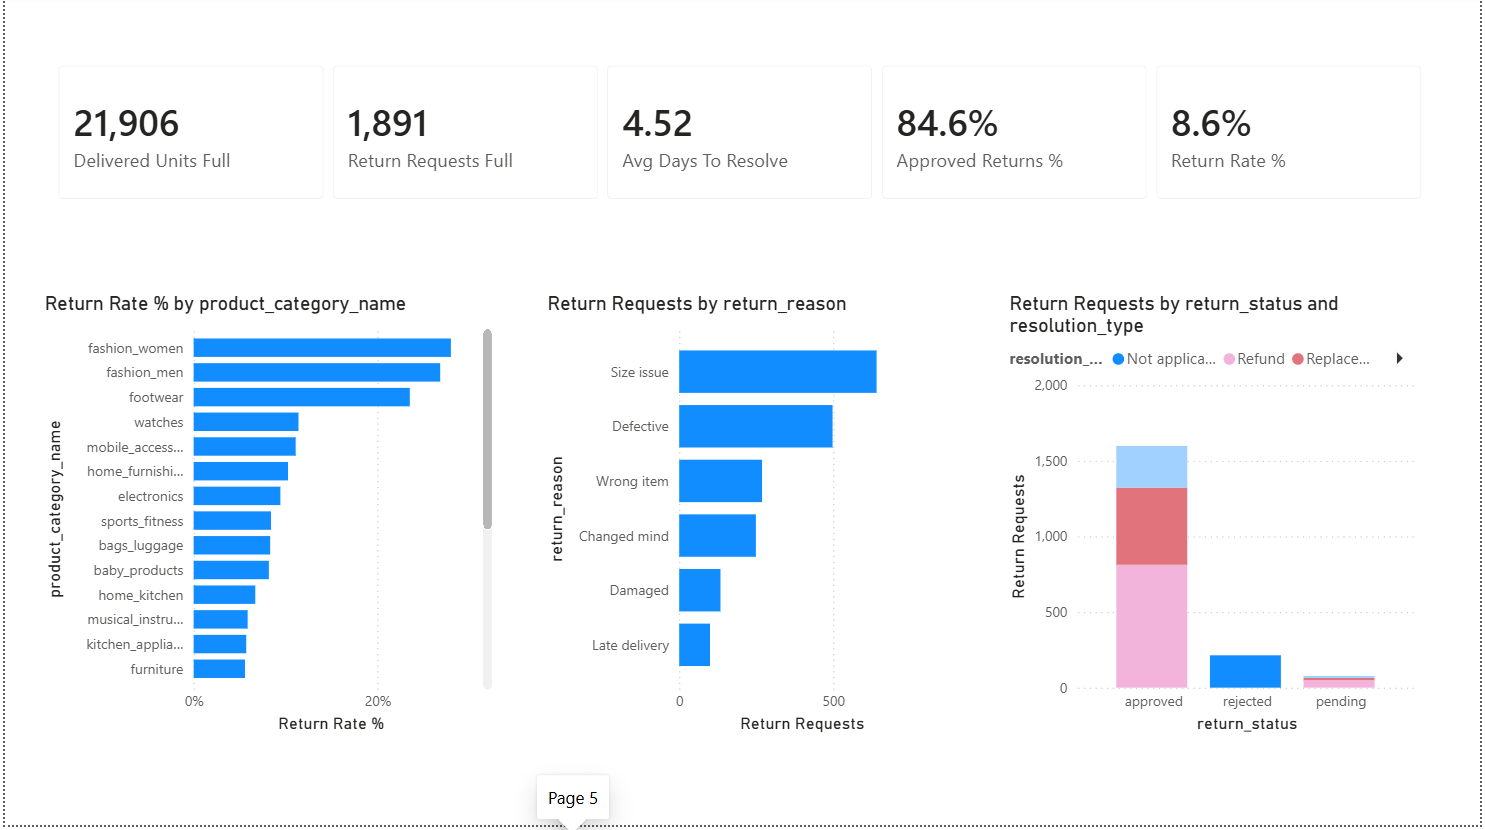

Layout of this report page (visuals, bound fields, positions):
{"tool":"powerbi","page":{"name":"Page 5","canvas":[1280,720],"ordinal":4},"visuals":[{"type":"cardVisual","fields":{"Data":["returns.Delivered Units Full","returns.Return Requests Full","returns.Avg Days To Resolve","returns.Approved Returns %","returns.Return Rate %"]},"box":[29.4,44.1,1220.4,150.7],"z":0},{"type":"clusteredBarChart","fields":{"Y":["returns.Return Rate %"],"Category":["products.product_category_name"]},"box":[29.4,257.3,398.2,387.2],"z":1000},{"type":"clusteredBarChart","fields":{"Category":["returns.return_reason"],"Y":["returns.Return Requests"]},"box":[465.6,257.3,348,387.2],"z":2000},{"type":"columnChart","fields":{"Category":["returns.return_status"],"Y":["returns.Return Requests"],"Series":["returns.resolution_type"]},"box":[866.3,257.3,362.7,387.2],"z":3000}]}

Visuals, with their boxes in screenshot pixels (x1, y1, x2, y2), scaled from the page's 1280x720 canvas onto the 1485x830 screenshot:
cardVisual - returns.Delivered Units Full x returns.Return Requests Full: 34,51,1450,225
clusteredBarChart - returns.Return Rate % x products.product_category_name: 34,297,496,743
clusteredBarChart - returns.return_reason x returns.Return Requests: 540,297,944,743
columnChart - returns.return_status x returns.Return Requests: 1005,297,1426,743
